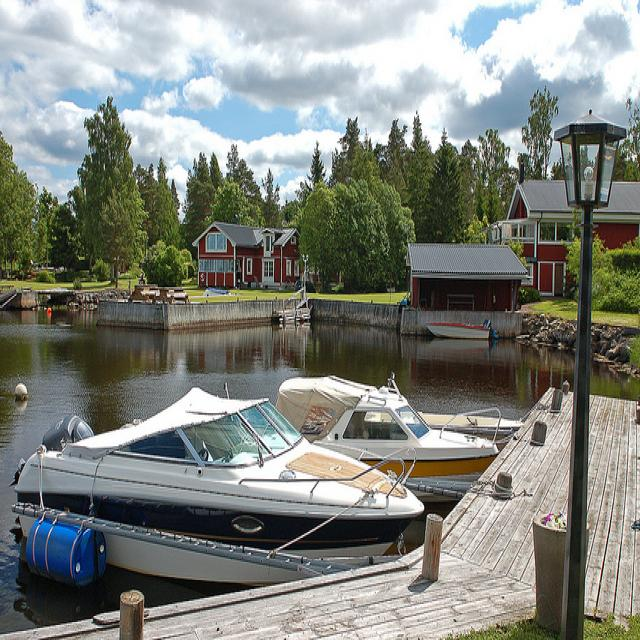houseboat: (9, 365, 424, 571)
